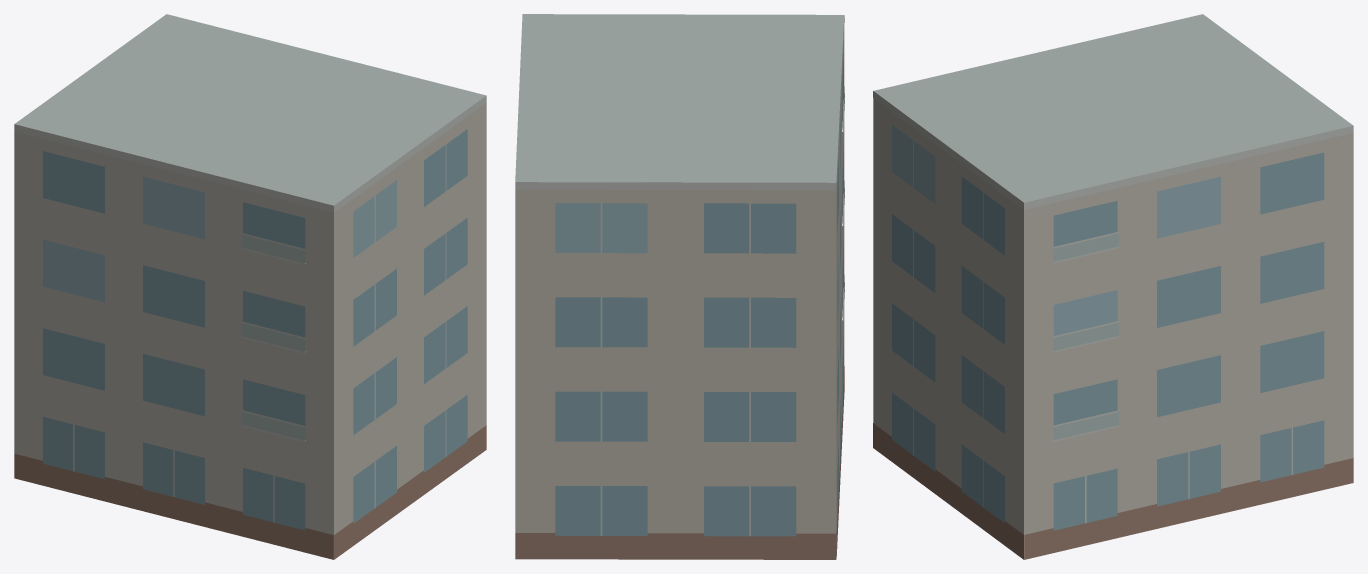
The model's file is survey-upis-32955901.glb.
3 views of the same model, side by side, from view 1: azimuth 30°, elevation 25°; view 2: azimuth 150°, elevation 25°; view 3: azimuth 270°, elevation 25° (orthographic). The views are drawn at different scales.
Parts seen in each view (by area): view 1: survey-upis-32955901.tmp; view 2: survey-upis-32955901.tmp; view 3: survey-upis-32955901.tmp.
Boxes of the visible parts, x1=… form: survey-upis-32955901.tmp: x1=14, y1=14, x2=486, y2=559; survey-upis-32955901.tmp: x1=515, y1=14, x2=844, y2=559; survey-upis-32955901.tmp: x1=873, y1=14, x2=1353, y2=559.
Bounding box in the file's own units: 13.84 × 12.2 × 14.88.
